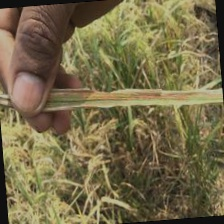Leaf_Blast: (47, 77, 216, 124)
